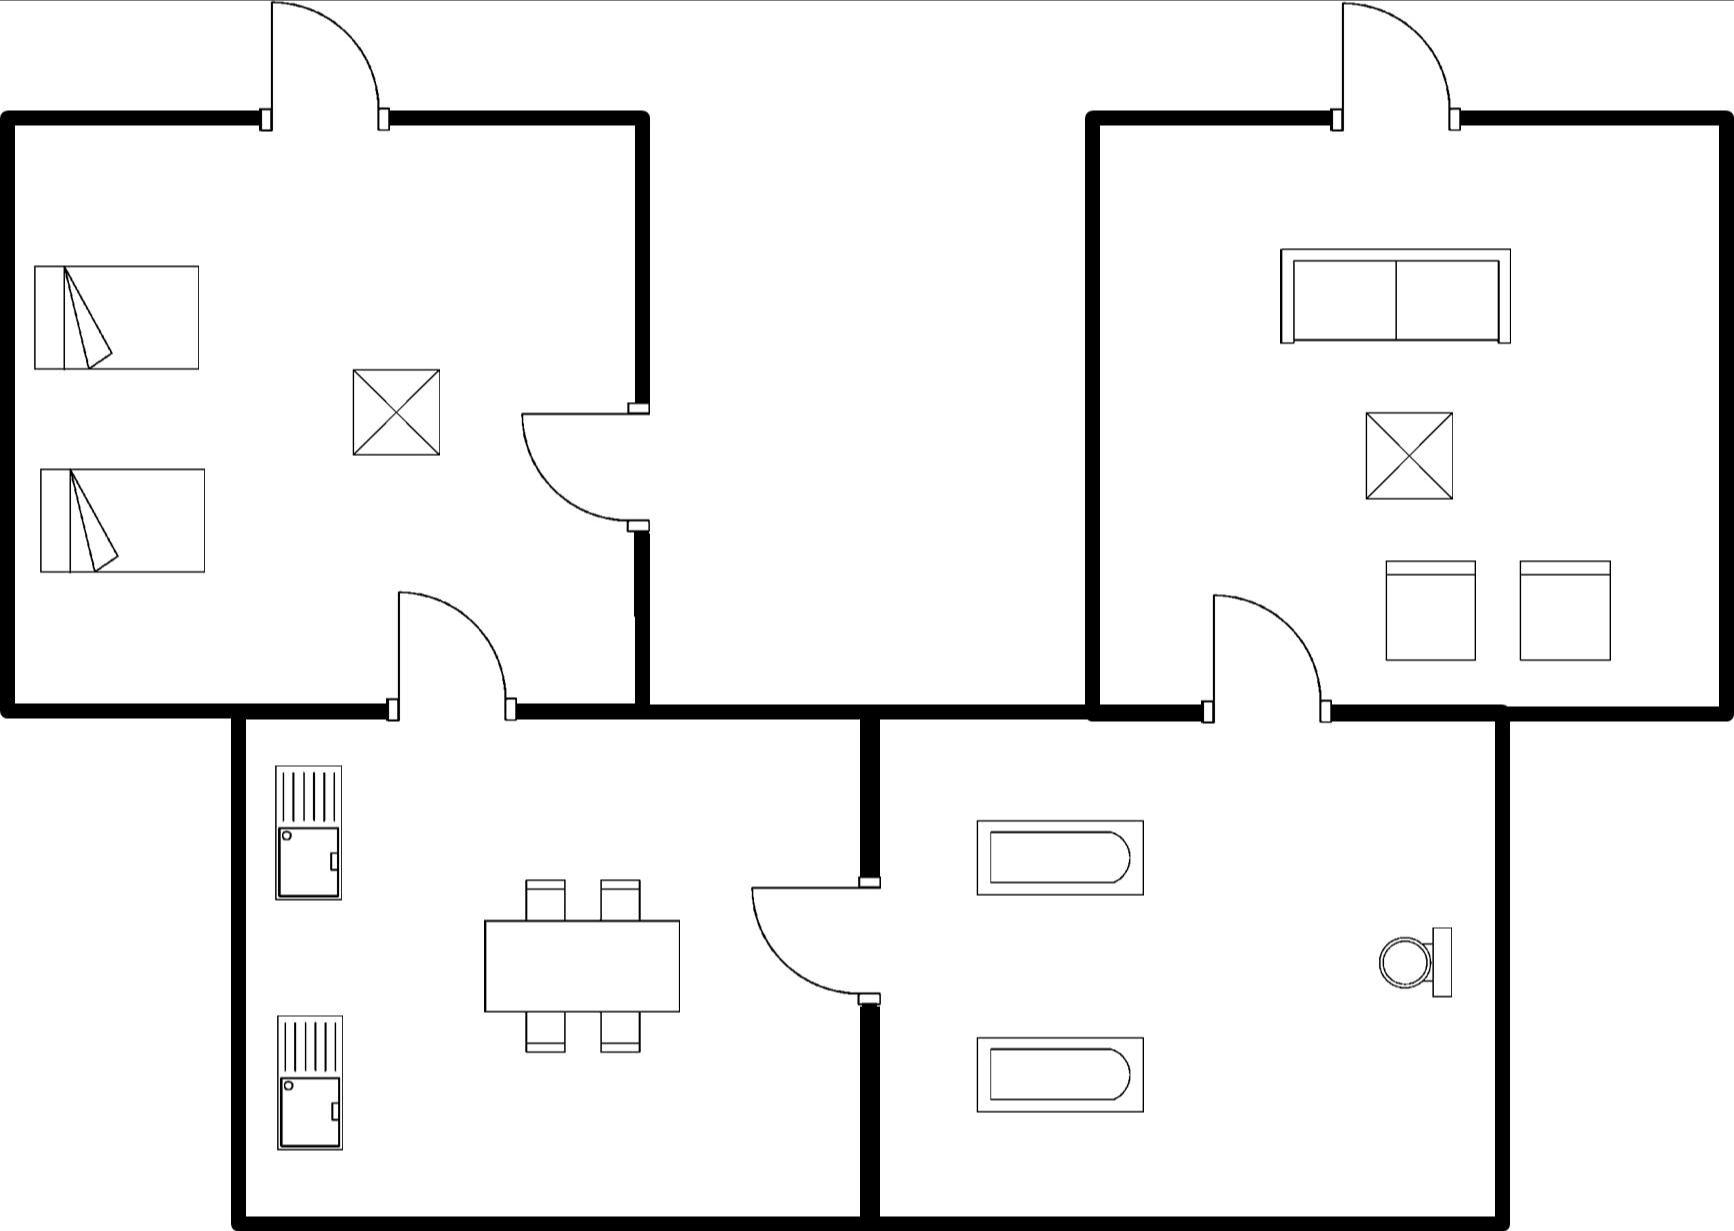bed: (25, 256, 205, 378), (31, 462, 212, 584)
dining_table: (467, 867, 691, 1060)
sink: (262, 755, 352, 909), (266, 1005, 352, 1160)
sofa: (1272, 236, 1521, 350)
toilet: (1370, 917, 1461, 1009)
tub: (960, 810, 1157, 905), (966, 1026, 1151, 1123)
